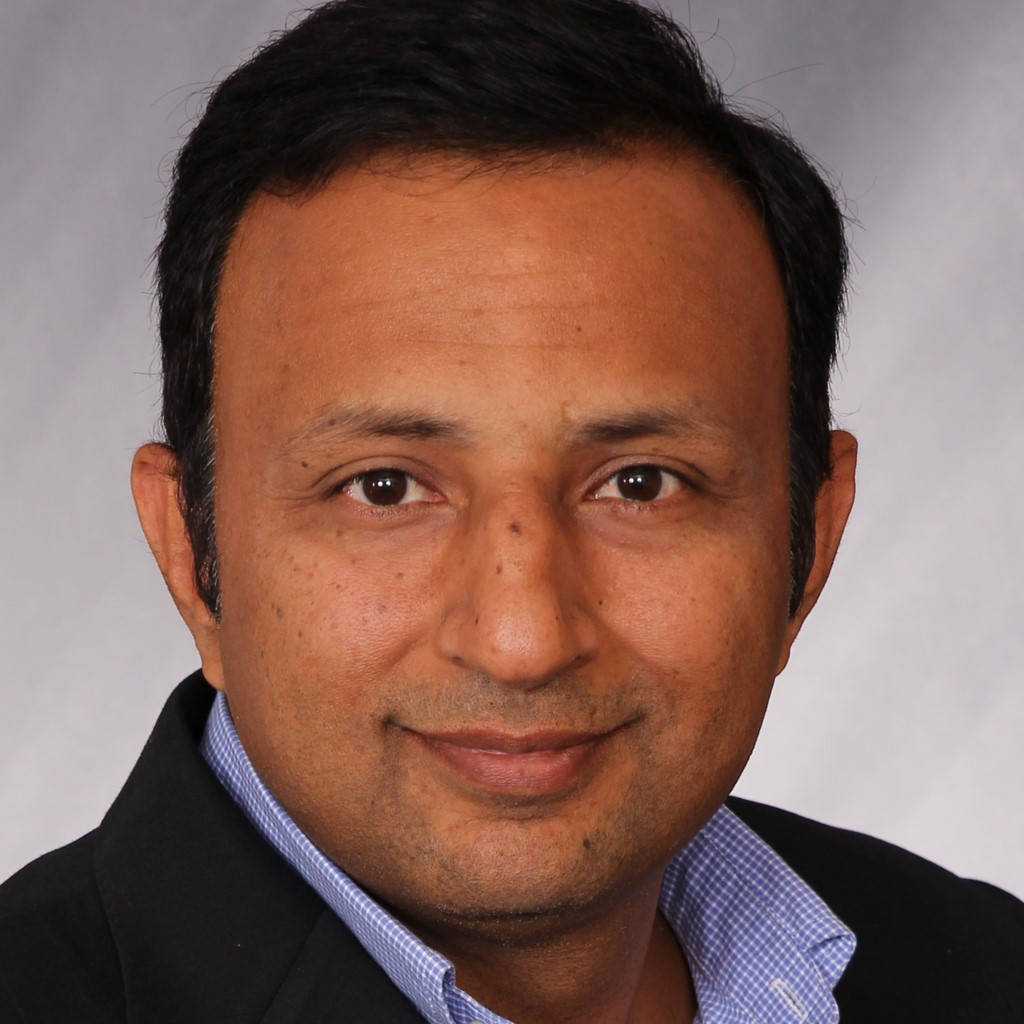sin_mascara: (171, 94, 827, 903)
